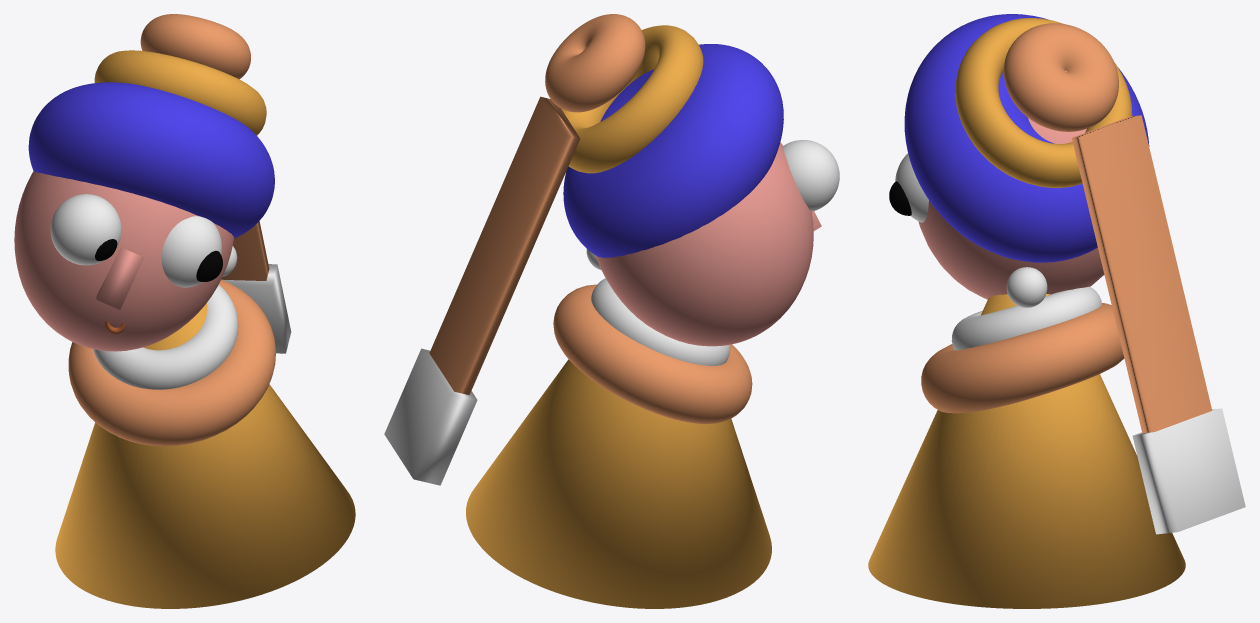
Rendered from girl_01.glb.
3 renders of one model, left to right at view 1: azimuth 30°, elevation 25°; view 2: azimuth 150°, elevation 25°; view 3: azimuth 270°, elevation 25°, orthographic. The views are drawn at different scales.
Parts seen in each view (by area): view 1: 锥体, 环体.001, 球体, 环体.004, 环体.002, 环体.005, 环体.003, 球体.002, 球体.001, 立方体.002, 立方体.001, 立方体 (+1 smaller); view 2: 锥体, 环体.001, 球体, 立方体.001, 环体.004, 环体.002, 立方体.002, 环体.003, 环体.005, 球体.002; view 3: 锥体, 立方体.001, 环体.001, 环体.004, 环体.002, 环体.003, 立方体.002, 球体, 环体.005, 球体.005, 球体.001, 球体.003.
Boxes of the visible parts, x1,y1,x2,y2 form: 锥体: (55,303,355,608); 环体.001: (28,82,274,238); 球体: (14,171,233,351); 环体.004: (68,279,275,446); 环体.002: (94,50,266,135); 环体.005: (93,284,238,389); 环体.003: (140,14,250,79); 球体.002: (50,194,121,265); 球体.001: (161,216,221,287); 立方体.002: (222,264,291,353); 立方体.001: (221,221,269,280); 立方体: (95,247,143,309); 锥体: (466,359,771,608); 环体.001: (563,44,783,257); 球体: (595,142,813,346); 立方体.001: (429,96,580,395); 环体.004: (553,284,752,424); 环体.002: (561,25,703,173); 立方体.002: (384,348,477,485); 环体.003: (545,14,645,112); 环体.005: (591,278,730,365); 球体.002: (783,140,839,211); 锥体: (868,294,1185,608); 立方体.001: (1071,115,1212,433); 环体.001: (904,14,1149,262); 环体.004: (921,303,1124,413); 环体.002: (955,18,1132,187); 环体.003: (1003,23,1118,131); 立方体.002: (1132,408,1245,534); 球体: (918,118,1104,299); 环体.005: (951,286,1101,350); 球体.005: (1006,267,1047,307); 球体.001: (895,153,928,222); 球体.003: (889,181,911,215).
Size of the model in its own units: 3.61 by 5.4 by 3.32.
